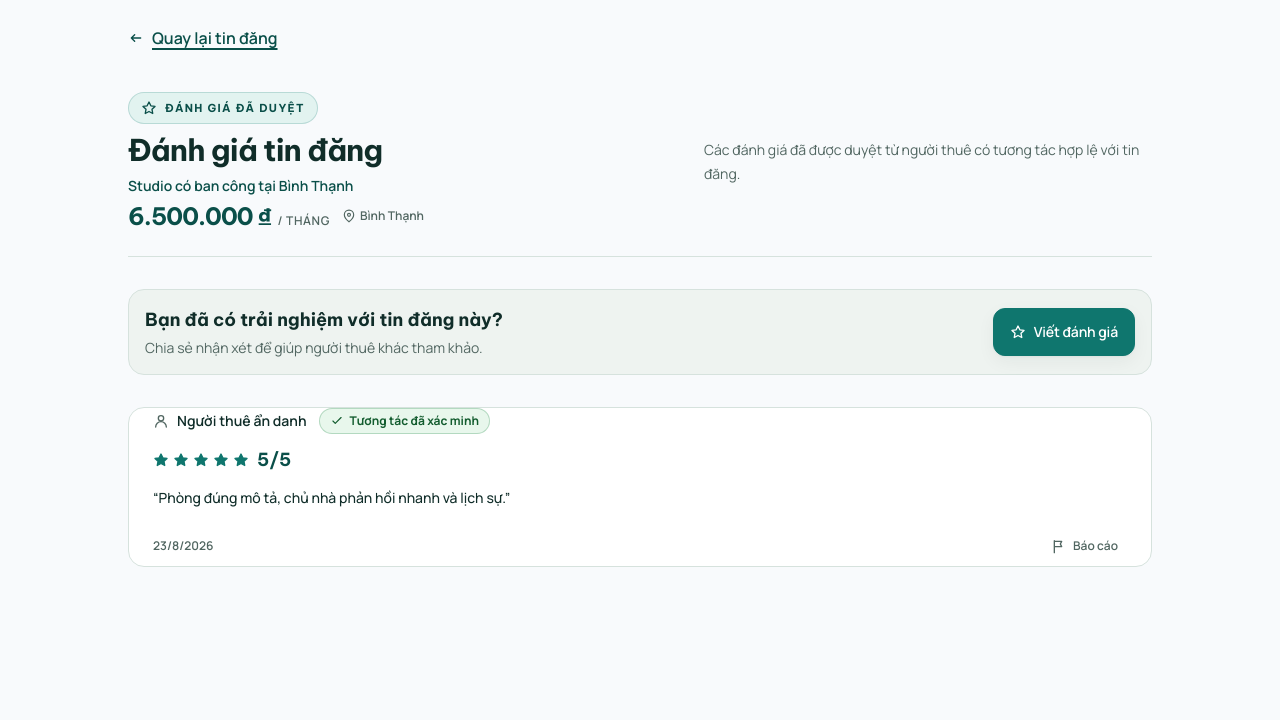
Test case: ListingReviewsPage › closes the form after submission without adding the pending review to the public list
Click the button "Viết đánh giá".
click(1064, 332)  # box [993,308,1135,356]
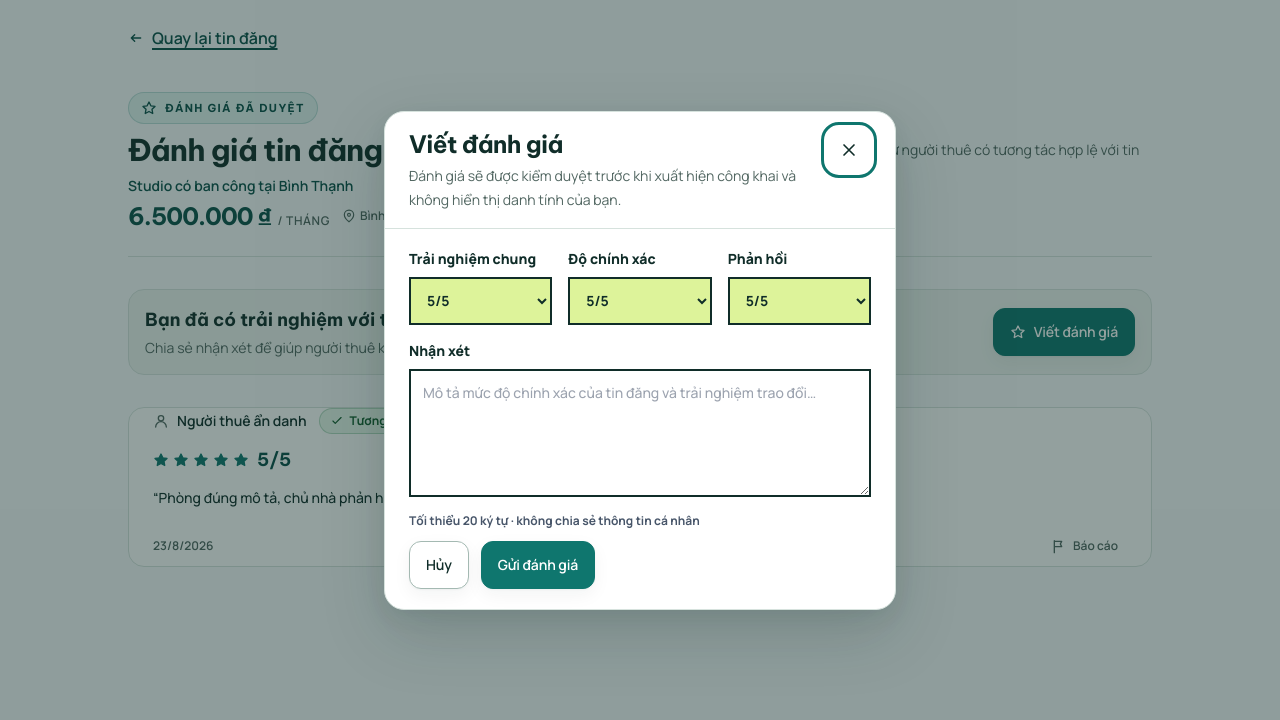
Expected: the button "Gửi đánh giá" is shown, [481,540,595,588]
Type "Đánh giá mới đang chờ kiểm duyệt và chưa công khai." into the text box labelled "Nhận xét".
click(640, 432); type("Đánh giá mới đang chờ kiểm duyệt và chưa công khai.")  # box [409,368,871,496]
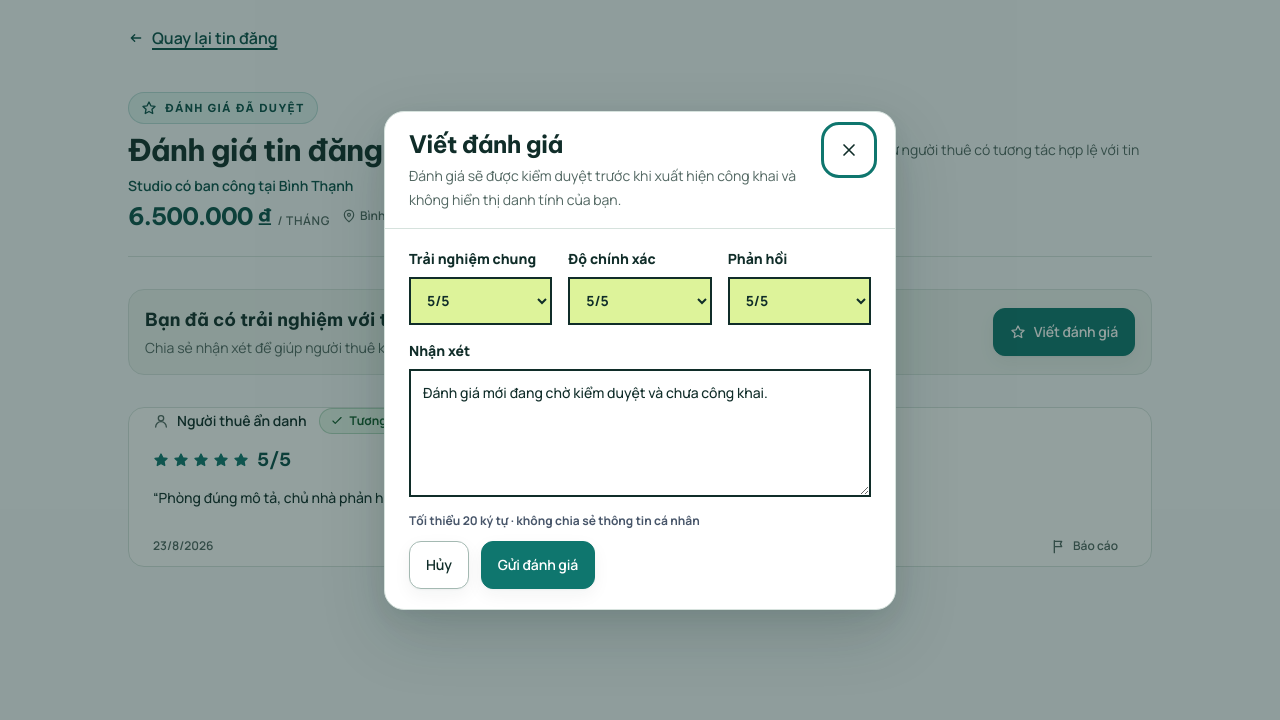
Click the button "Gửi đánh giá".
click(538, 564)  # box [481,540,595,588]
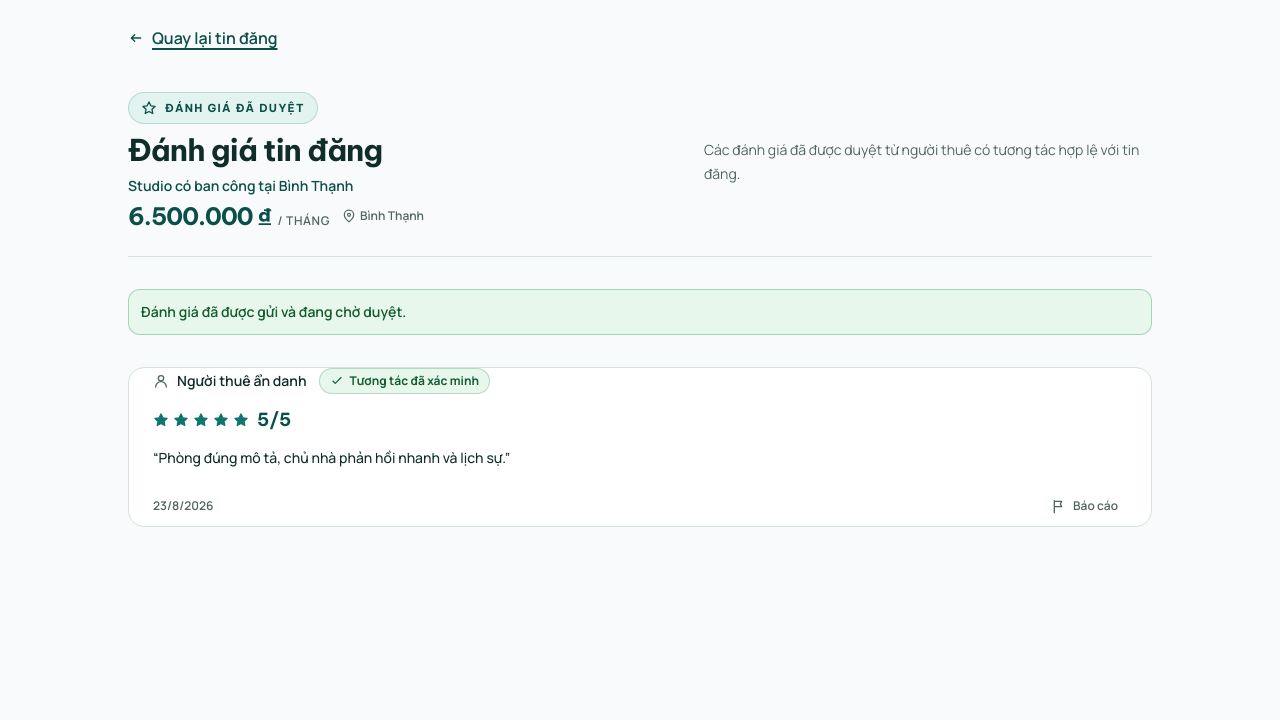
Expected: the message shows "đang chờ duyệt", [141,302,406,321]
Expected: the dialog is gone
